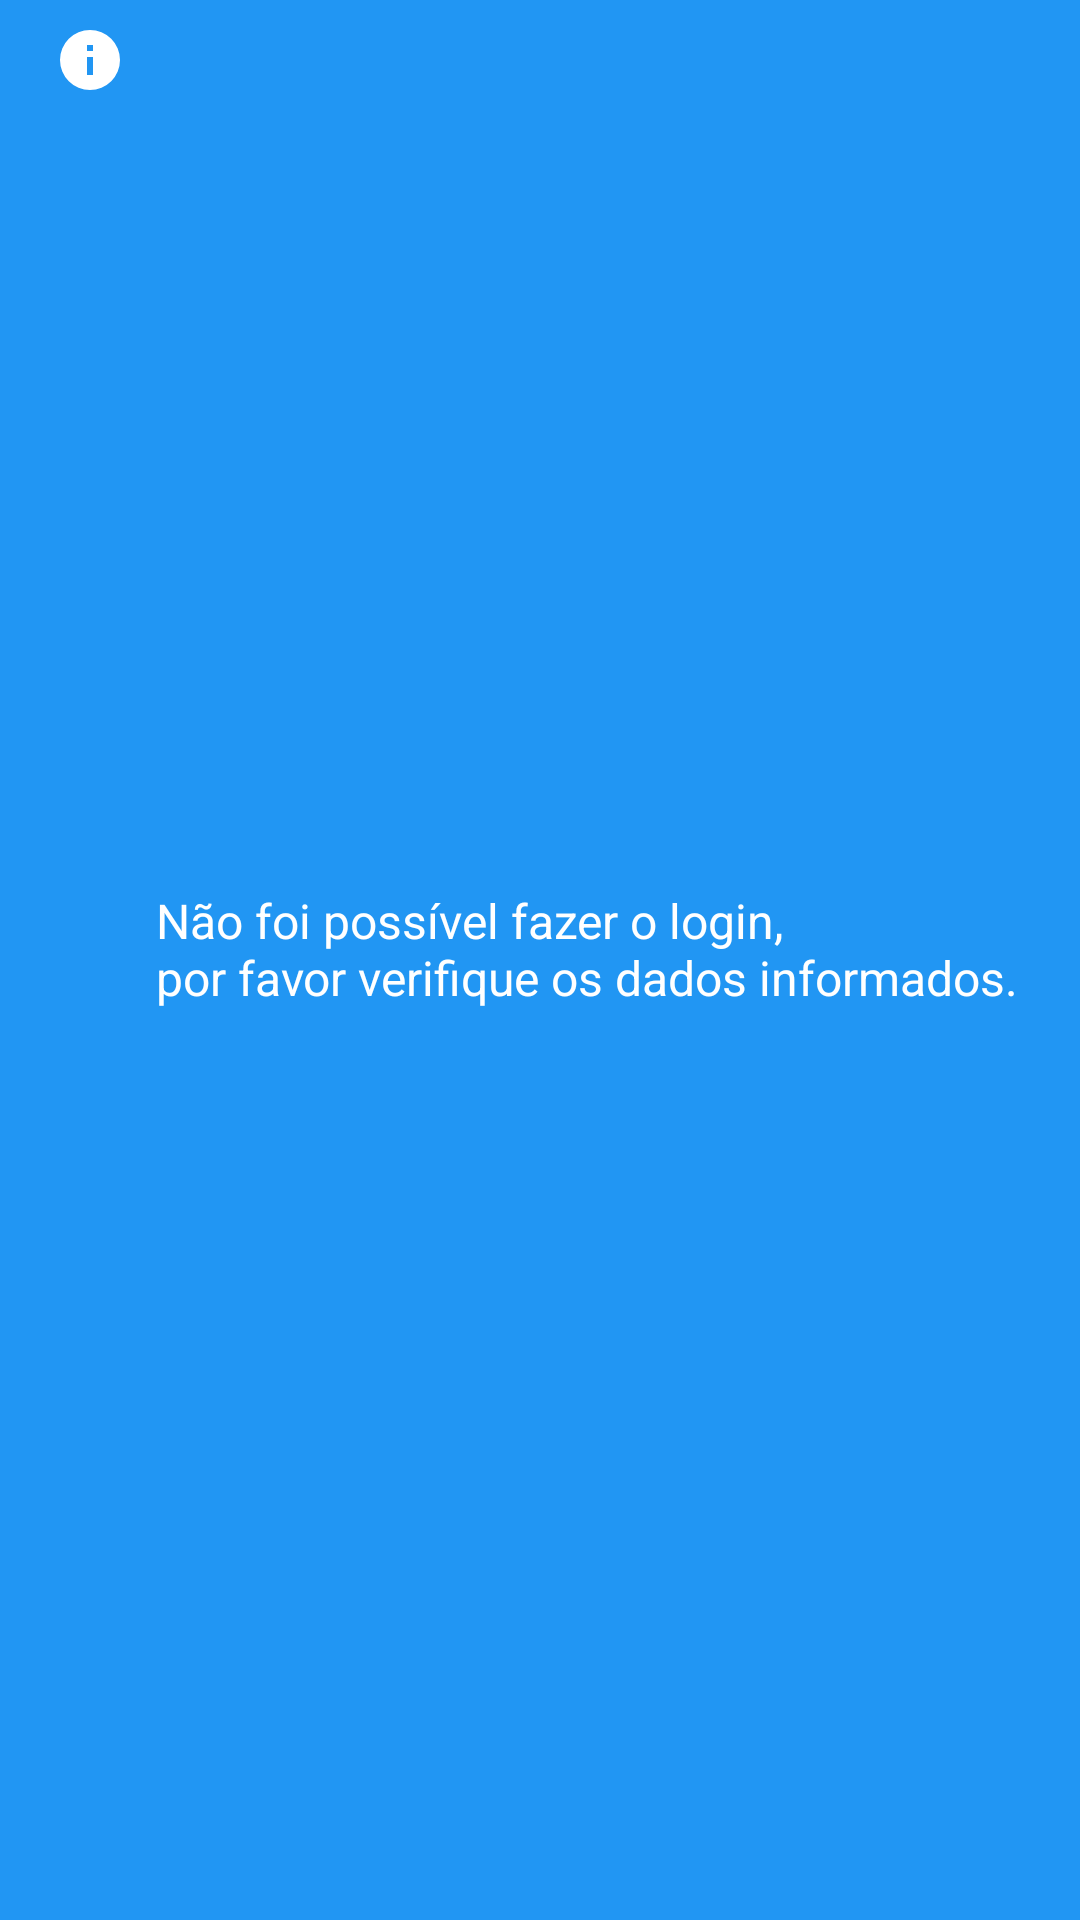

Where to tap for icons on this 1080 x 1920 app screen, as (x=x, y=y):
information: (x=90, y=60)
